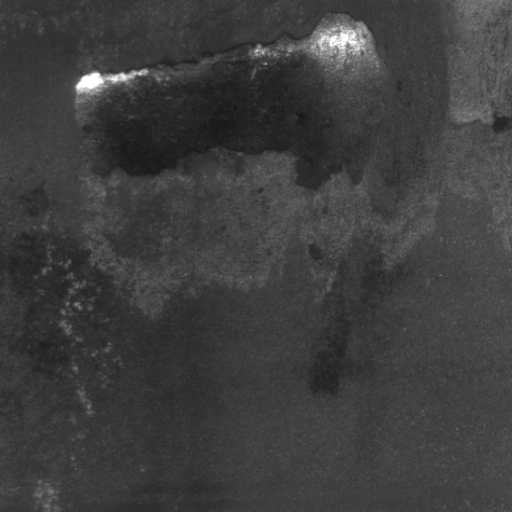aokeng: (72, 12, 388, 191)
